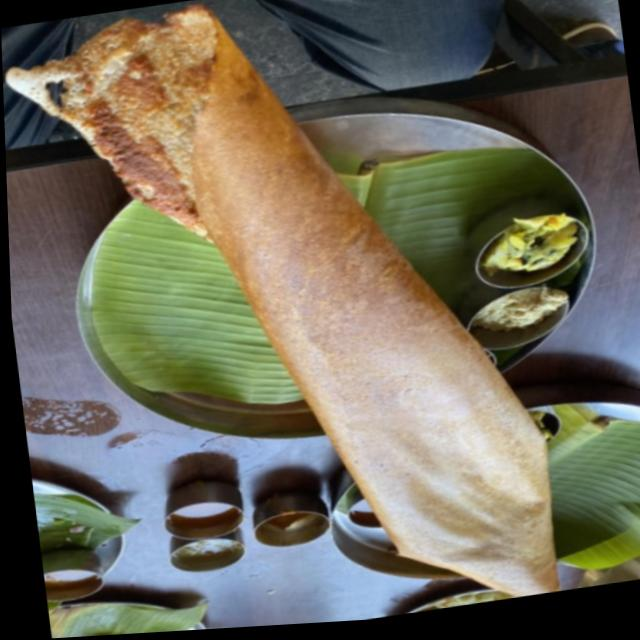DOSA: (7, 4, 560, 596)
